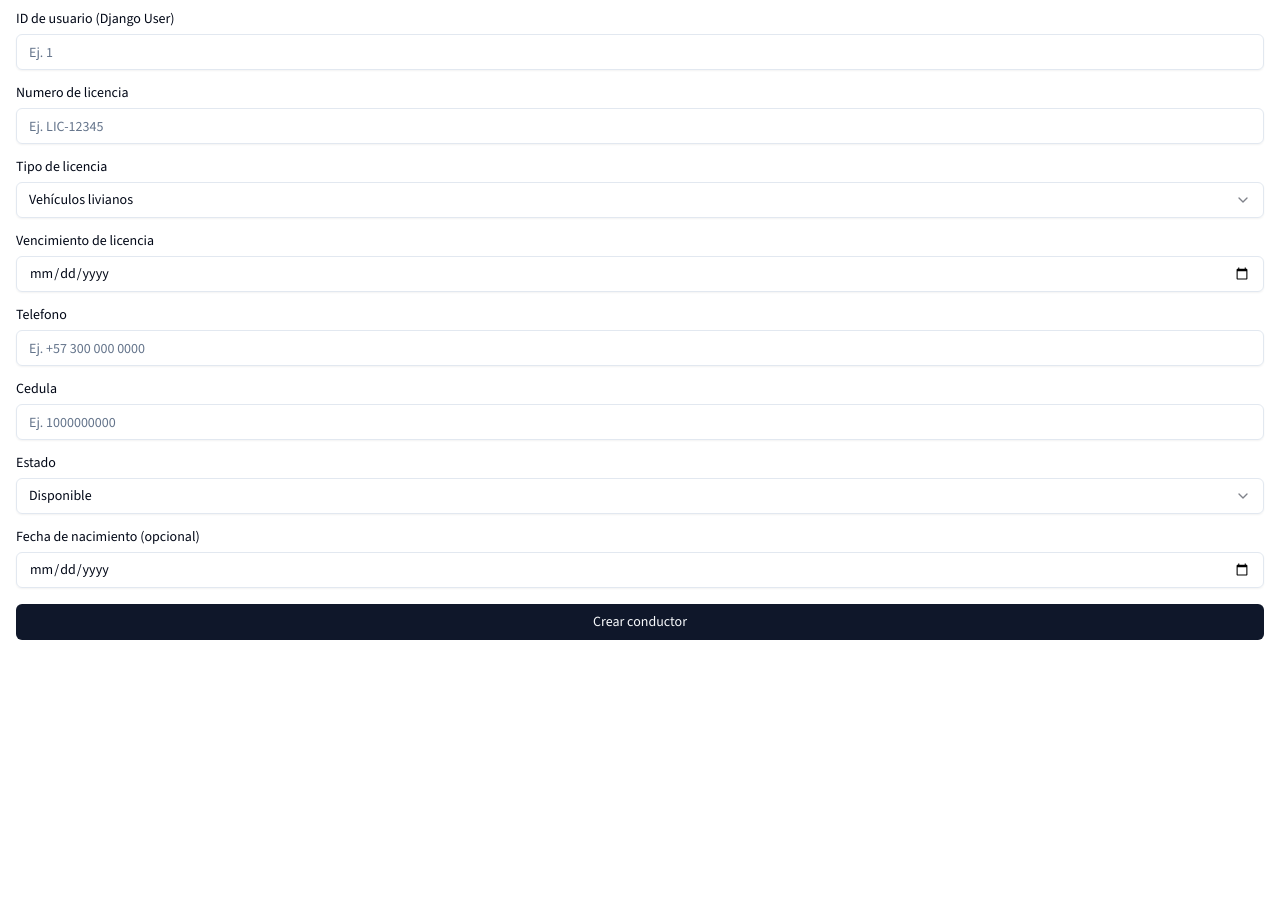
Scenario: DriverForm — validation › shows error when license_number is empty on submit
# fill all except license_number
In the number field with placeholder "Ej. 1": {"x": 640, "y": 52} [16,34,1264,70], type "1"
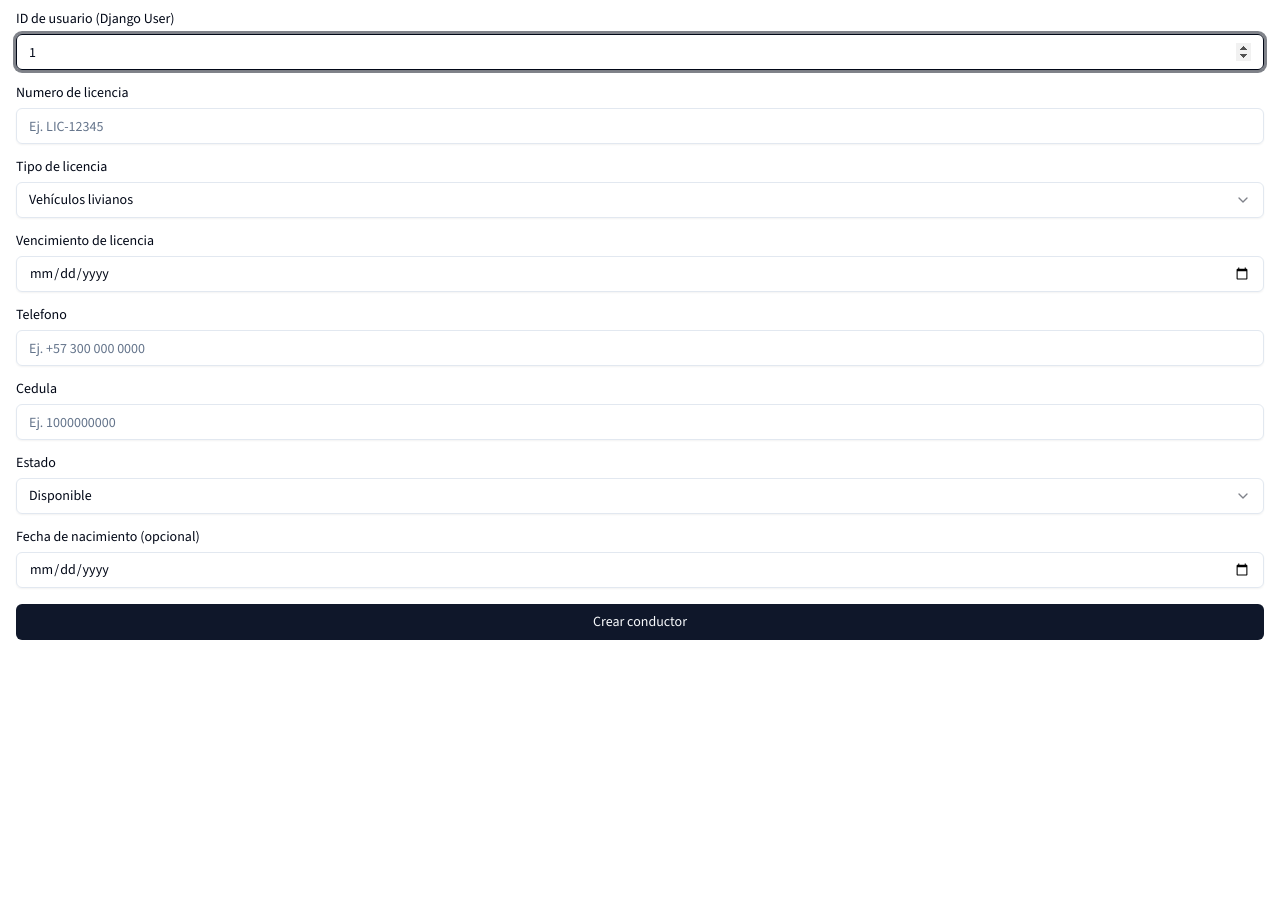
In the field with placeholder "Ej. +57 300 000 0000": {"x": 640, "y": 348} [16,330,1264,366], type "+57 311 000 0000"
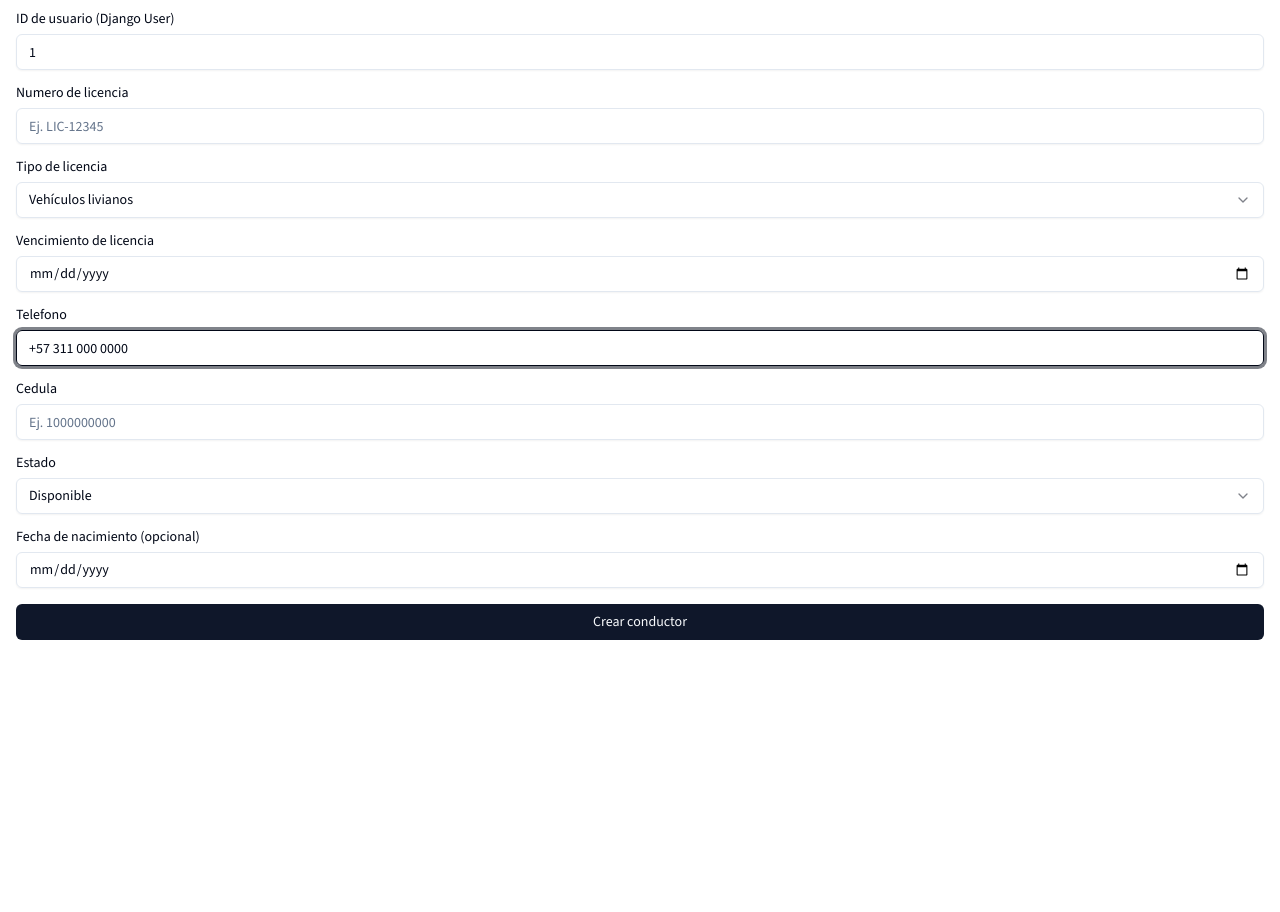
In the field with placeholder "Ej. 1000000000": {"x": 640, "y": 422} [16,404,1264,440], type "9876543210"
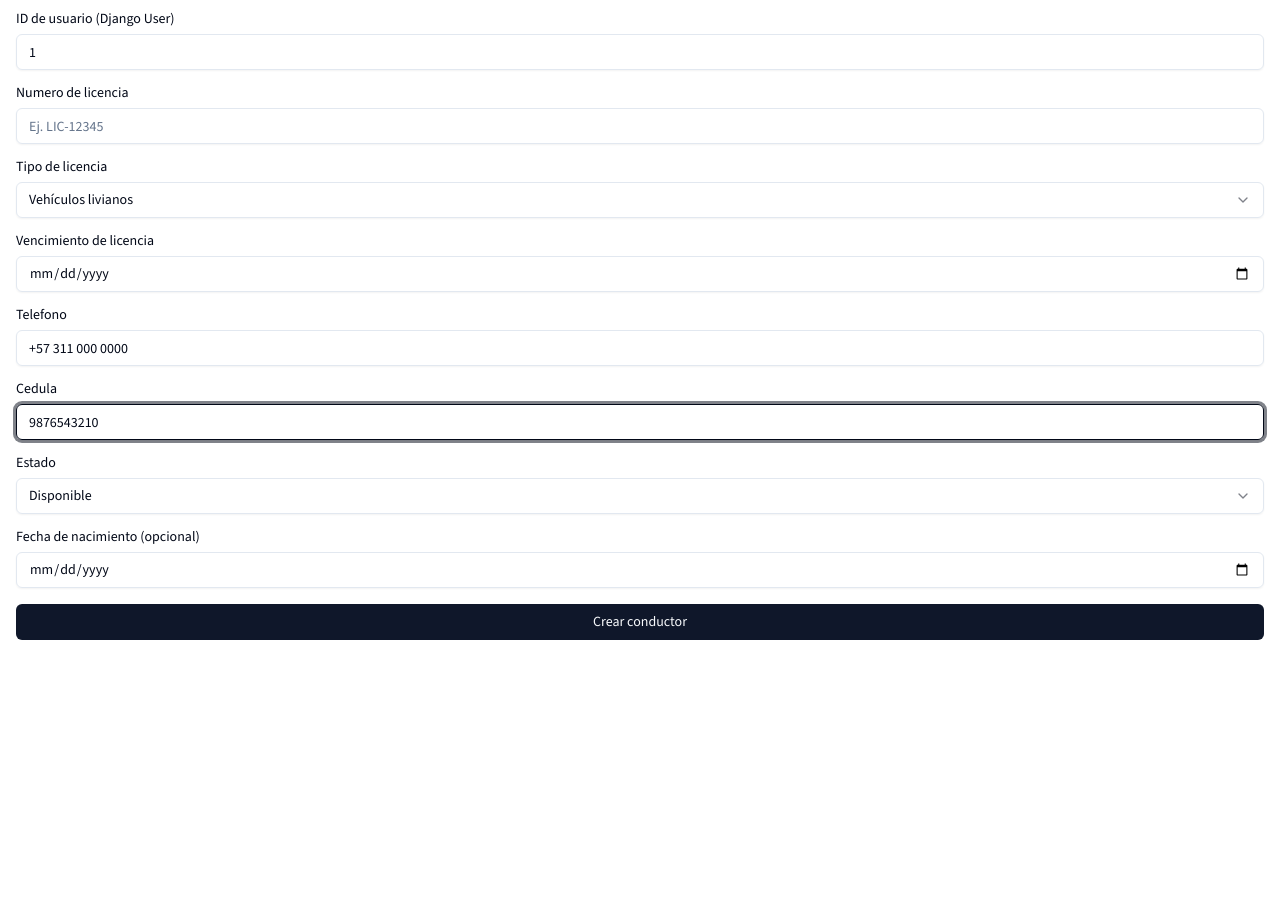
In the date field labelled "Vencimiento de licencia": {"x": 640, "y": 274} [16,256,1264,292], type "2027-12-31"
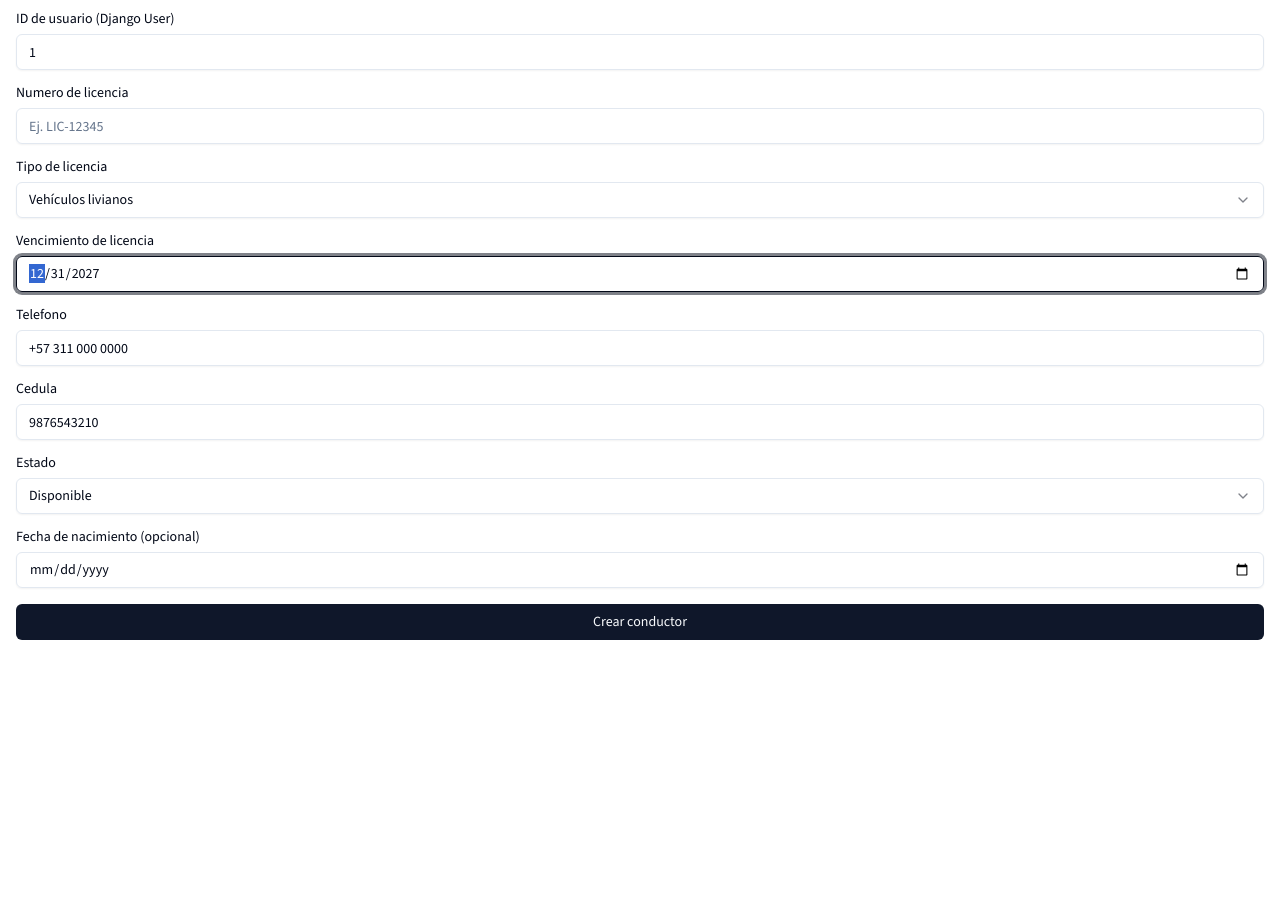
Click the button "Crear conductor": {"x": 640, "y": 622} [16,604,1264,640]
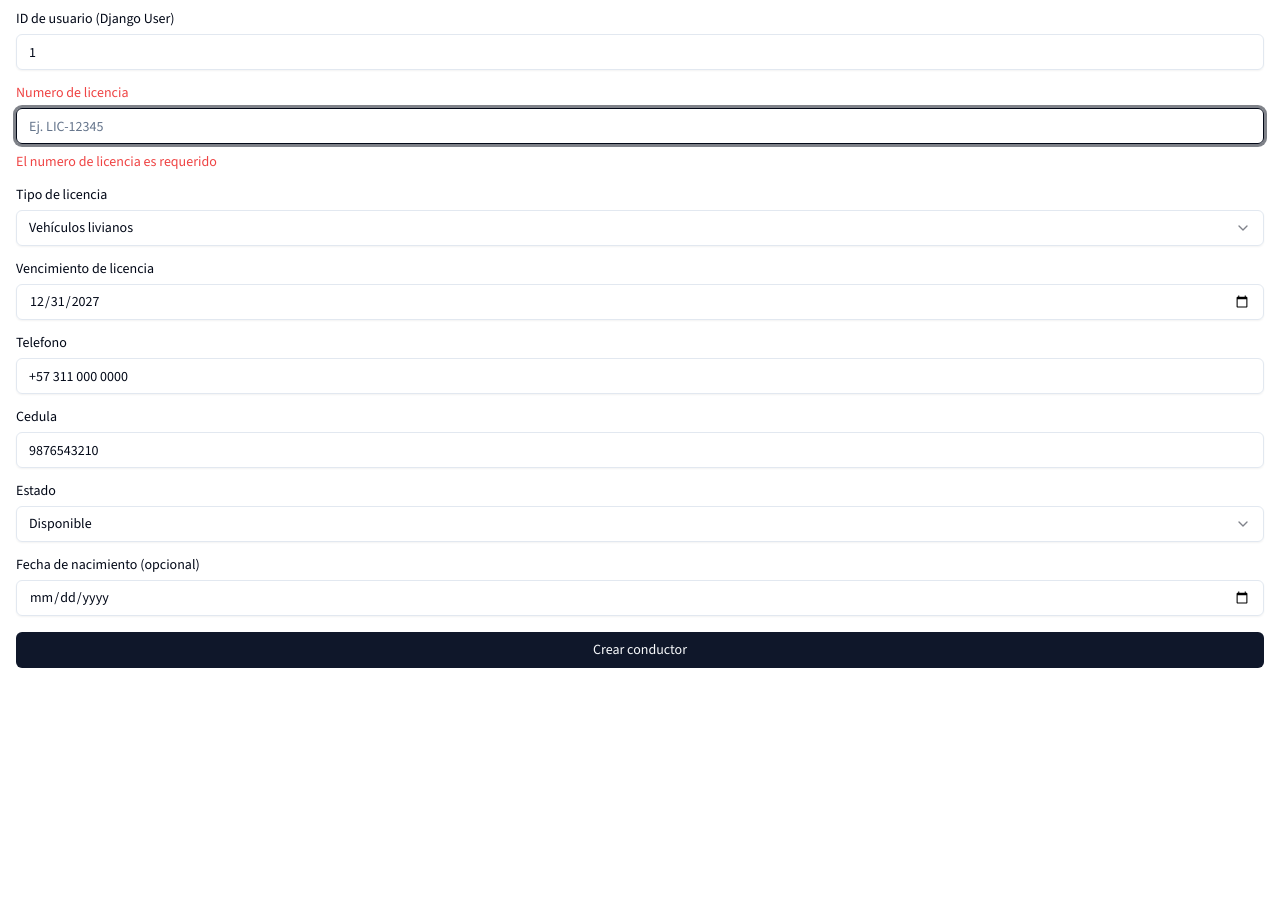
Expected: the text "El numero de licencia es requerido" is shown, [16,152,217,171]
